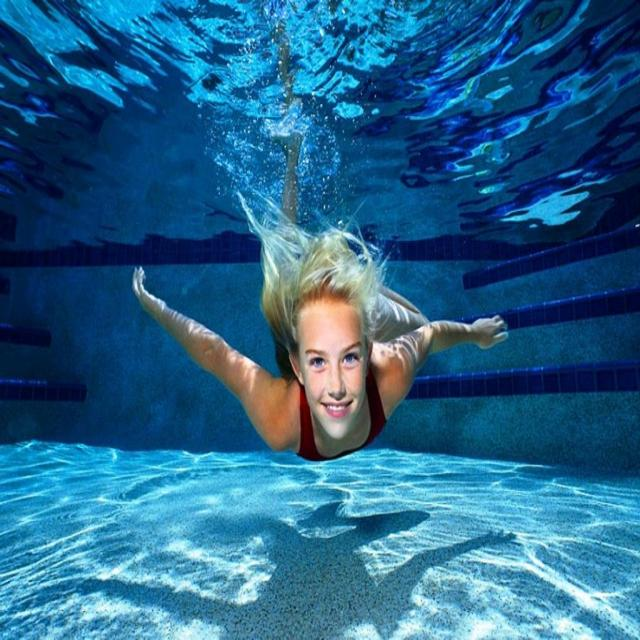nomask: (302, 300, 366, 446)
